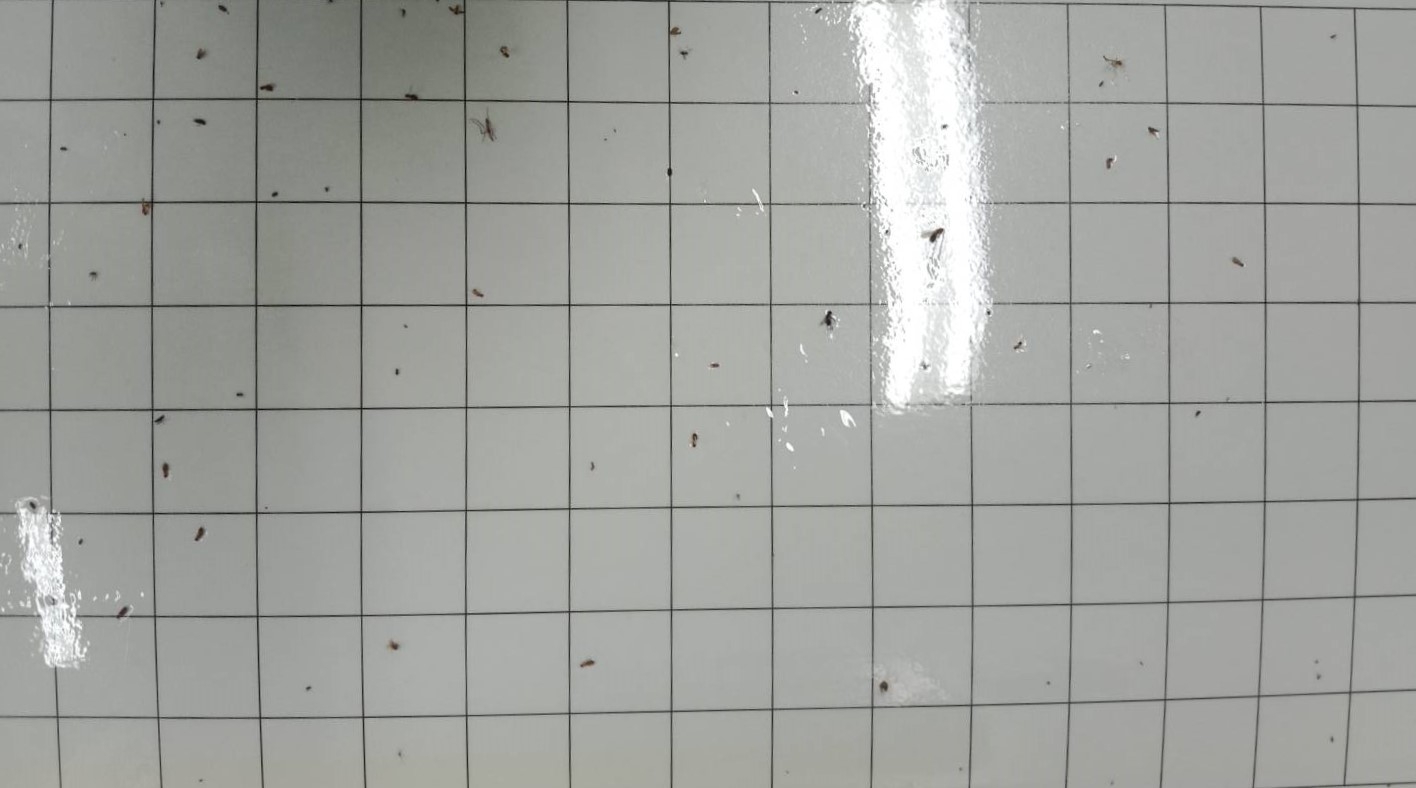test: (470, 114, 500, 144), (919, 221, 947, 249), (817, 308, 839, 331), (1103, 54, 1126, 71), (192, 525, 209, 546), (115, 603, 132, 622), (577, 657, 597, 672), (1146, 124, 1162, 142), (259, 80, 279, 94), (403, 90, 421, 104), (1230, 255, 1247, 269), (666, 24, 683, 38), (192, 115, 209, 129), (195, 46, 209, 63), (160, 462, 173, 480), (450, 2, 465, 17), (217, 0, 232, 15), (386, 639, 402, 653), (499, 43, 513, 59), (139, 198, 153, 214), (689, 432, 701, 448), (471, 287, 487, 299), (878, 680, 891, 693), (26, 500, 39, 513), (154, 413, 167, 426), (1104, 156, 1116, 170), (812, 6, 826, 17), (1013, 340, 1025, 351), (1193, 409, 1205, 420), (920, 361, 932, 372), (587, 461, 597, 474), (679, 48, 690, 59), (665, 166, 675, 178), (233, 389, 245, 399), (393, 367, 403, 379), (707, 361, 720, 370), (1328, 32, 1339, 42), (59, 144, 70, 154), (14, 241, 25, 251), (398, 8, 409, 18), (270, 190, 280, 200), (322, 184, 332, 194), (791, 88, 802, 97), (89, 269, 98, 280), (985, 308, 993, 320), (1097, 80, 1106, 90), (1044, 679, 1054, 688), (76, 536, 85, 546), (304, 684, 314, 693), (155, 118, 165, 127), (940, 121, 948, 132), (1328, 733, 1336, 744), (396, 749, 404, 760), (156, 0, 166, 8), (1315, 674, 1324, 682), (883, 227, 890, 237), (196, 777, 206, 784), (734, 492, 742, 500), (1138, 659, 1145, 668), (402, 322, 409, 331), (1313, 658, 1320, 666)
